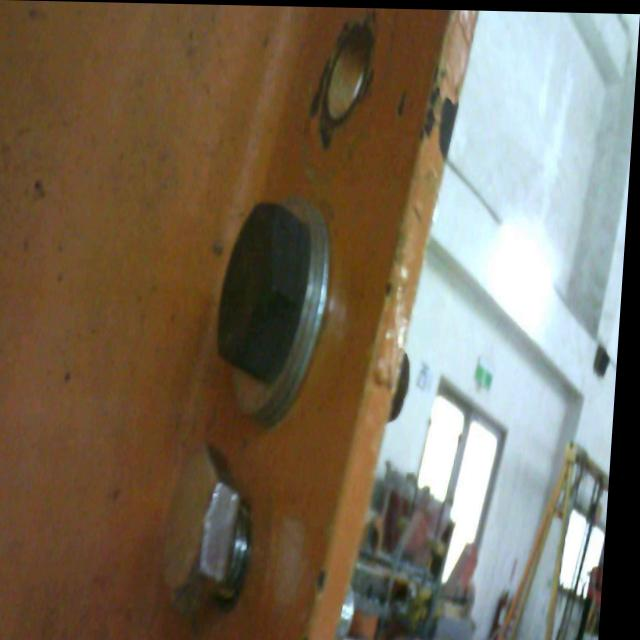Loose bolt: (166, 443, 265, 615)
Missing bolt: (321, 22, 376, 121)
Rusty bolt: (218, 197, 338, 425)
